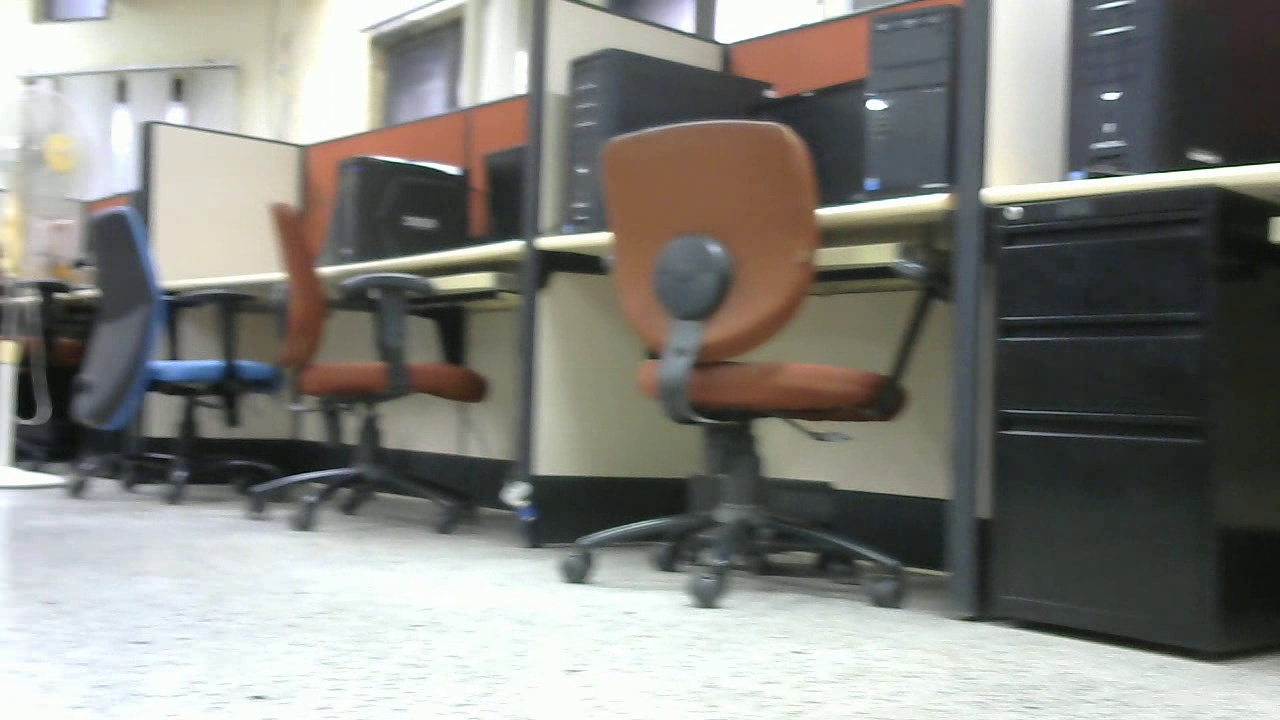chair: (554, 113, 948, 613), (238, 203, 492, 558), (62, 205, 286, 498)
